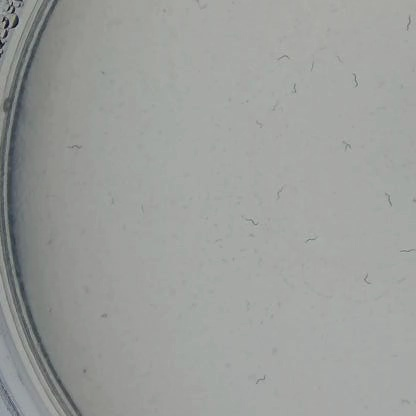worm: (273, 183, 291, 203), (241, 215, 262, 232), (251, 371, 268, 389), (301, 232, 320, 248), (67, 140, 86, 154), (385, 185, 395, 211), (398, 393, 414, 409), (398, 242, 416, 256), (349, 69, 359, 93), (361, 271, 374, 289), (269, 95, 281, 113), (404, 12, 414, 33), (277, 49, 291, 64), (340, 139, 352, 155), (335, 50, 345, 67), (196, 0, 209, 13), (289, 80, 301, 94), (255, 116, 269, 128)
